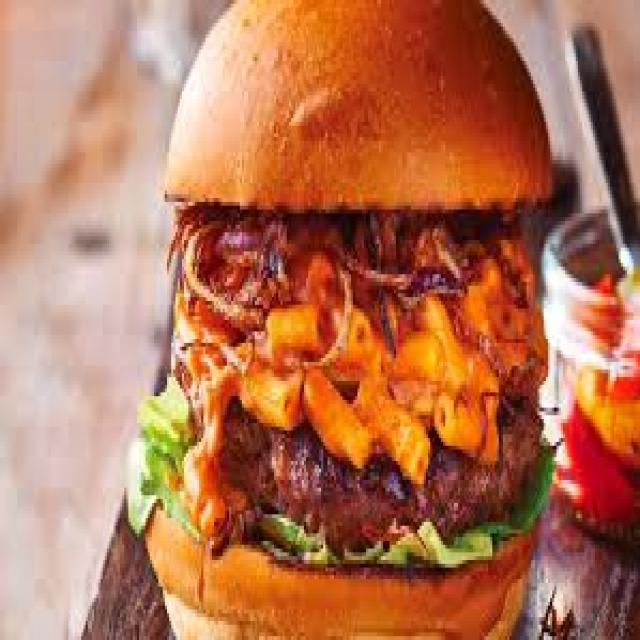Wet Waste: (167, 0, 558, 640)
